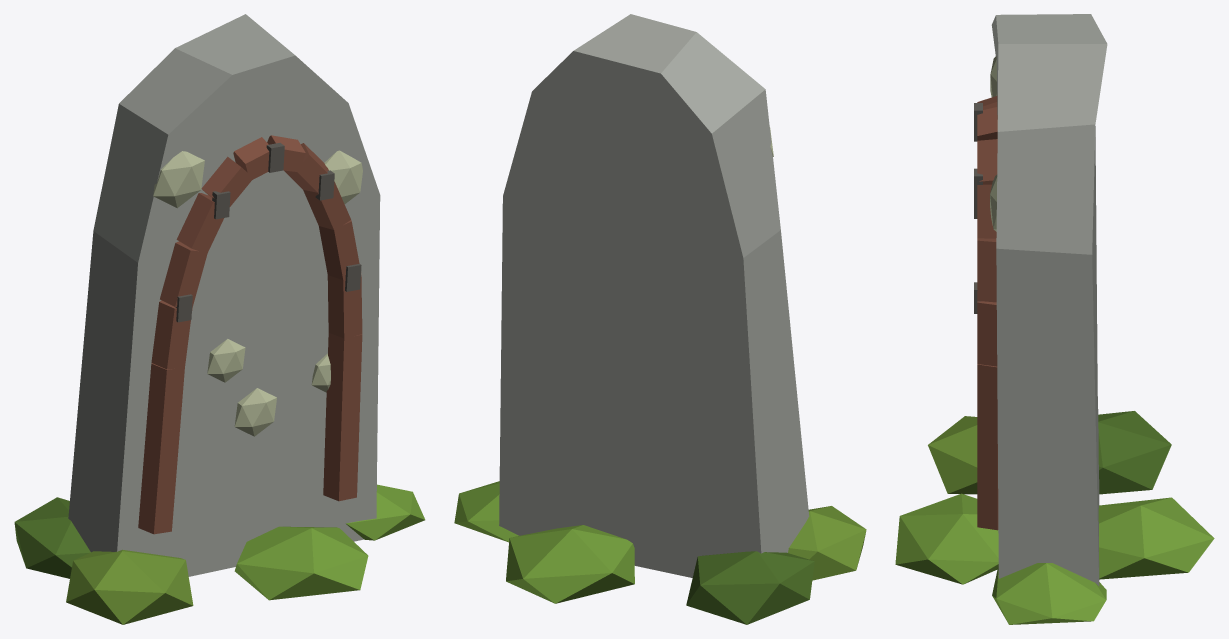
File: forest_runestone_old.glb
3 renders of one model, left to right at view 1: azimuth 30°, elevation 25°; view 2: azimuth 150°, elevation 25°; view 3: azimuth 270°, elevation 25°, orthographic. The views are drawn at different scales.
Parts seen in each view (by area): view 1: forest_runestone_old; view 2: forest_runestone_old; view 3: forest_runestone_old.
Part boxes in pixels (bbox=[...]): forest_runestone_old: bbox=[14, 14, 425, 624]; forest_runestone_old: bbox=[454, 14, 866, 624]; forest_runestone_old: bbox=[895, 14, 1214, 624].
Bounding box in the file's own units: 1.92 × 2.49 × 1.4.
